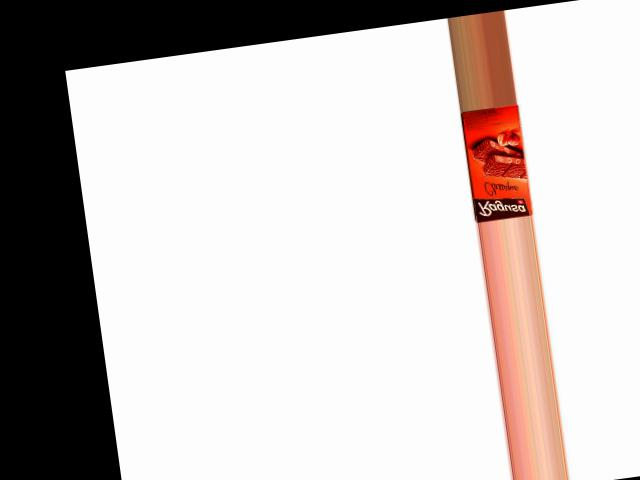chocolate: (457, 102, 539, 222)
